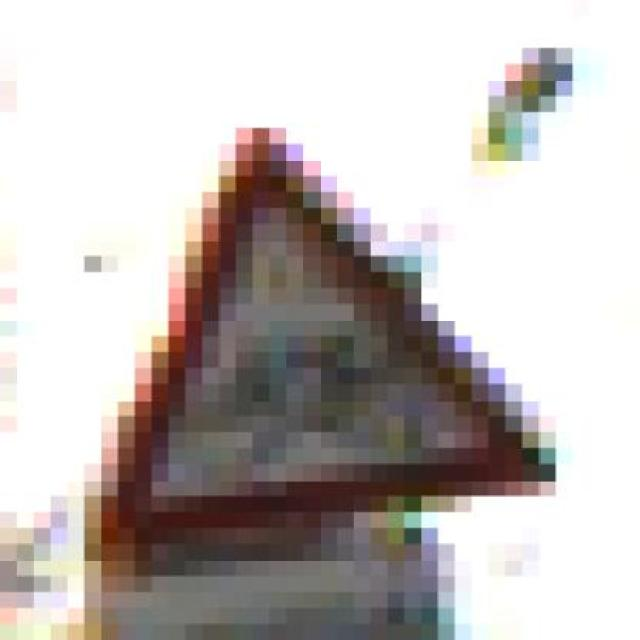CYCLE ROUTE AHEAD WARNING: (67, 111, 590, 544)
